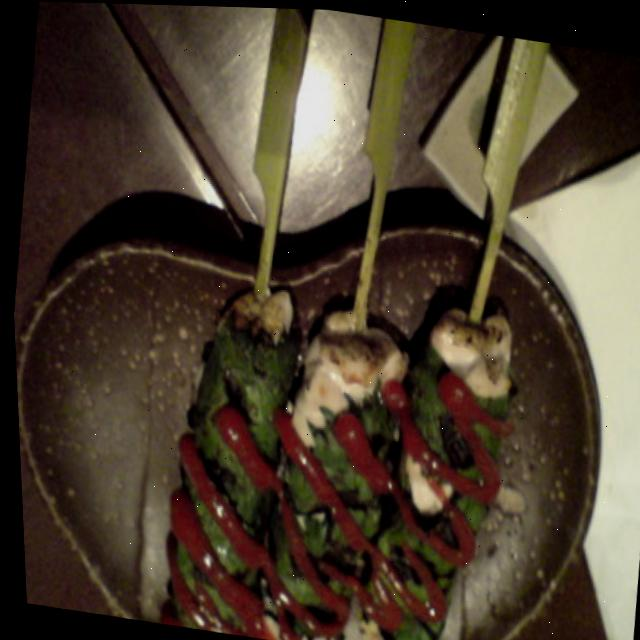烧串烤肉: (105, 2, 602, 640)
